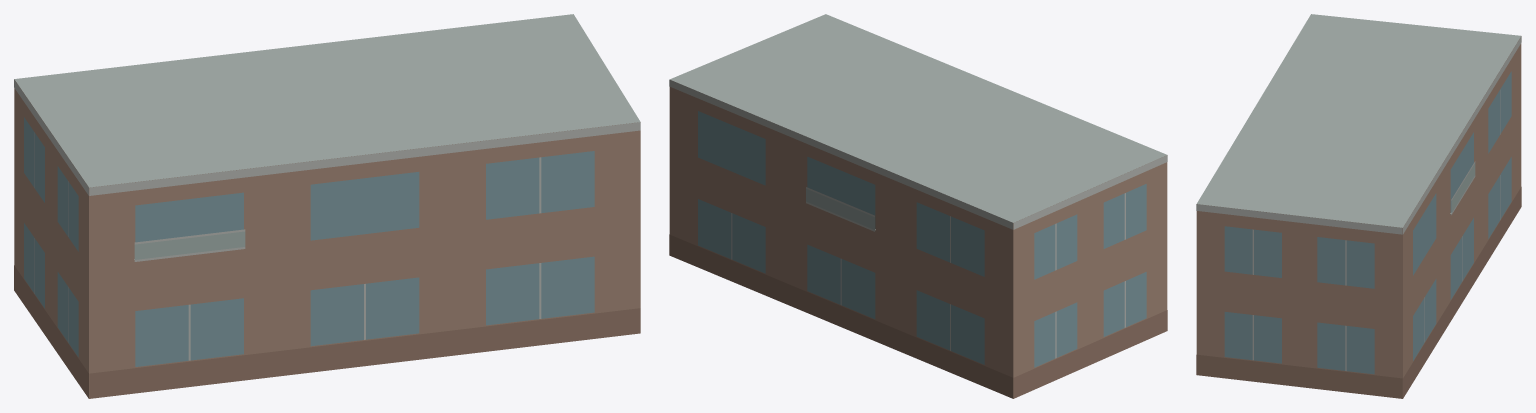
Rendered from survey-upis-32526598.glb.
3 renders of one model, left to right at view 1: azimuth 30°, elevation 25°; view 2: azimuth 150°, elevation 25°; view 3: azimuth 270°, elevation 25°, orthographic. The views are drawn at different scales.
Parts seen in each view (by area): view 1: survey-upis-32526598.tmp; view 2: survey-upis-32526598.tmp; view 3: survey-upis-32526598.tmp.
Part boxes in pixels (x1=…): survey-upis-32526598.tmp: x1=14, y1=14, x2=640, y2=398; survey-upis-32526598.tmp: x1=669, y1=14, x2=1167, y2=398; survey-upis-32526598.tmp: x1=1196, y1=14, x2=1521, y2=398.
Bounding box in the file's own units: 16.36 × 6.1 × 10.51.
